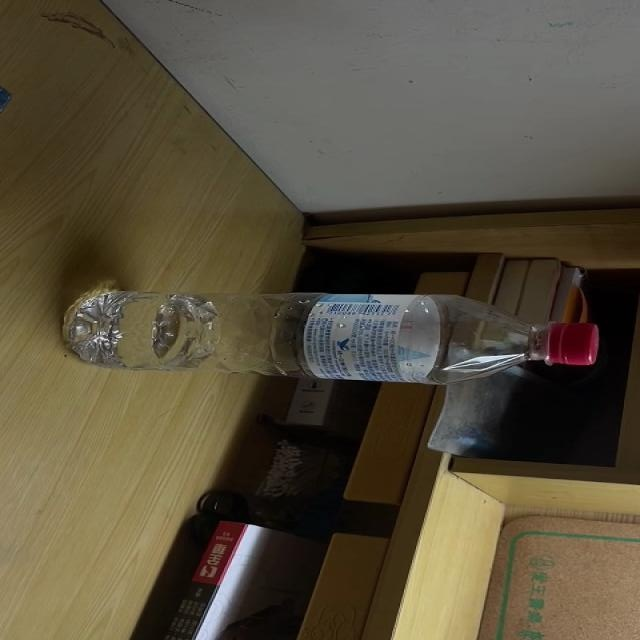Water: (62, 290, 603, 385)
